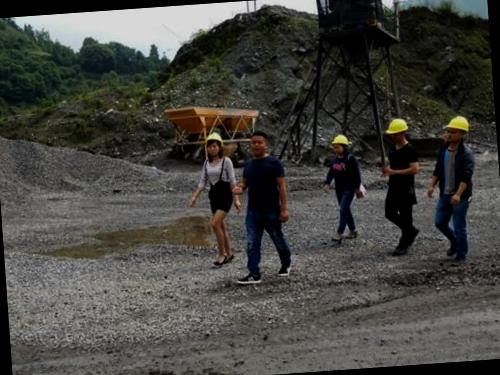no_helmet: (247, 125, 275, 158)
